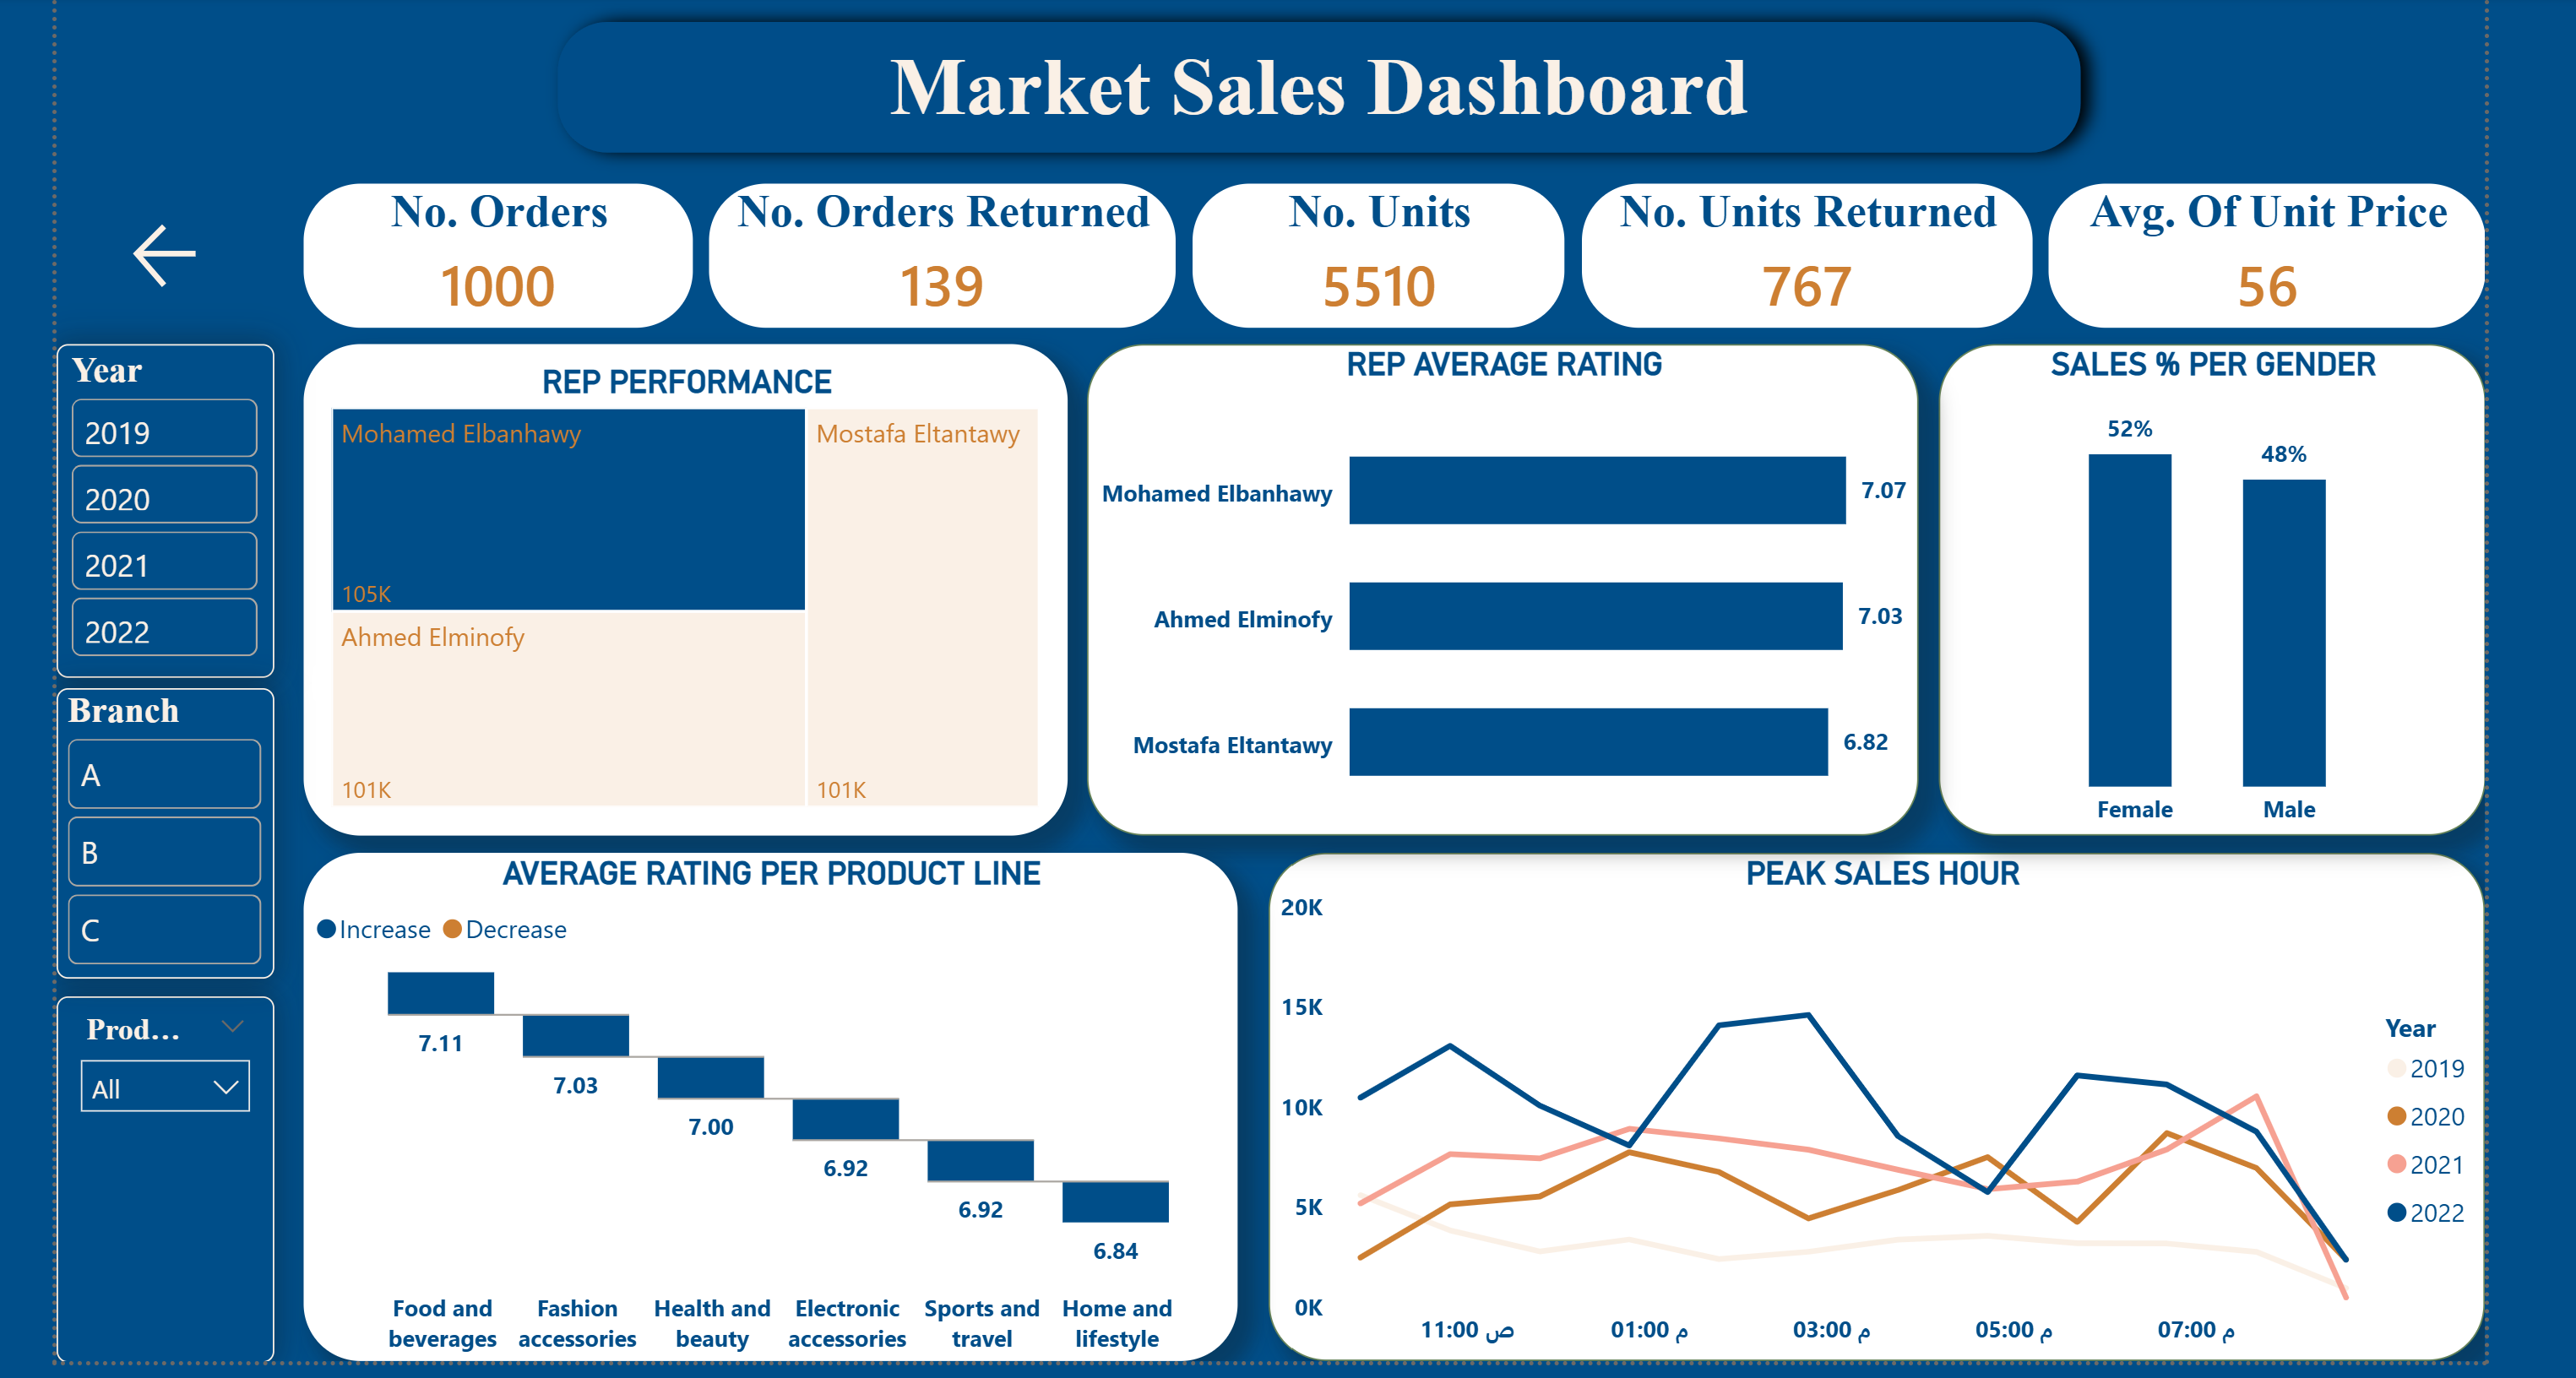

What the dashboard file says about the page in this screenshot:
{"tool":"powerbi","page":{"name":"Dashboard3","canvas":[1280,720],"ordinal":3},"visuals":[{"type":"shape","box":[250.9,0,830,96.5],"z":0},{"type":"lineChart","title":"PEAK SALES HOUR","fields":{"Series":["Data.Year"],"Category":["Data.Time (bins)"],"Y":["Sum(Data.Total)"]},"box":[639.4,452.4,640.6,267.8],"z":1000},{"type":"slicer","fields":{"Values":["Data.Product line"]},"box":[0,527.2,114.6,193],"z":2000},{"type":"card","title":"No. Units","fields":{"Values":["Sum(Data.Quantity)"]},"box":[598.4,98.9,195.4,76],"z":3000},{"type":"card","title":"No. Orders","fields":{"Values":["CountNonNull(Data.Invoice ID)"]},"box":[130.3,98.9,205.1,76],"z":4000},{"type":"card","title":"No. Orders Returned","fields":{"Values":["CountNonNull(returns.returns)"]},"box":[343.8,98.9,246.1,76],"z":5000},{"type":"card","title":"No. Units Returned","fields":{"Values":["Data.Quantity Returned"]},"box":[803.5,98.9,237.7,76],"z":6000},{"type":"card","title":"Avg. Of Unit Price","fields":{"Values":["Avg(Data.Unit price)"]},"box":[1049.6,98.9,230.4,76],"z":7000},{"type":"treemap","title":"REP PERFORMANCE","fields":{"Group":["Rep.Rep"],"Values":["Data.Total Sales"]},"box":[130.3,183.4,403,259.4],"z":8000},{"type":"columnChart","title":"SALES % PER GENDER","fields":{"Y":["Divide(Sum(Data.Total), ScopedEval(Sum(Data.Total), []))"],"Category":["Data.Gender"]},"box":[991.7,183.4,288.3,259.4],"z":9000},{"type":"barChart","title":"REP AVERAGE RATING","fields":{"Category":["Rep.Rep"],"Y":["Avg(Data.Rating)"]},"box":[542.9,183.4,437.9,259.4],"z":10000},{"type":"advancedSlicerVisual","fields":{"Values":["Data.Year"]},"box":[0,183.4,114.6,176.1],"z":11000},{"type":"advancedSlicerVisual","fields":{"Values":["Data.Branch"]},"box":[0,365.6,114.6,153.2],"z":12000},{"type":"waterfallChart","title":"AVERAGE RATING PER PRODUCT LINE","fields":{"Category":["Data.Product line"],"Y":["Avg(Data.Rating)"]},"box":[130.3,452.4,492.2,267.8],"z":13000},{"type":"actionButton","box":[14.5,100.1,86.9,73.6],"z":14000}]}

Visuals, with their boxes on the page's 1280x720 design canvas (x1, y1, x2, y2). These are canvas units, not pixel positions in the 2576x1378 screenshot, which may show the page scaled, cropped or inside an application window:
shape: BBox(251, 0, 1081, 96)
"PEAK SALES HOUR" lineChart: BBox(639, 452, 1280, 720)
slicer - Data.Product line: BBox(0, 527, 115, 720)
"No. Units" card: BBox(598, 99, 794, 175)
"No. Orders" card: BBox(130, 99, 335, 175)
"No. Orders Returned" card: BBox(344, 99, 590, 175)
"No. Units Returned" card: BBox(804, 99, 1041, 175)
"Avg. Of Unit Price" card: BBox(1050, 99, 1280, 175)
"REP PERFORMANCE" treemap: BBox(130, 183, 533, 443)
"SALES % PER GENDER" columnChart: BBox(992, 183, 1280, 443)
"REP AVERAGE RATING" barChart: BBox(543, 183, 981, 443)
advancedSlicerVisual - Data.Year: BBox(0, 183, 115, 360)
advancedSlicerVisual - Data.Branch: BBox(0, 366, 115, 519)
"AVERAGE RATING PER PRODUCT LINE" waterfallChart: BBox(130, 452, 622, 720)
actionButton: BBox(14, 100, 101, 174)
